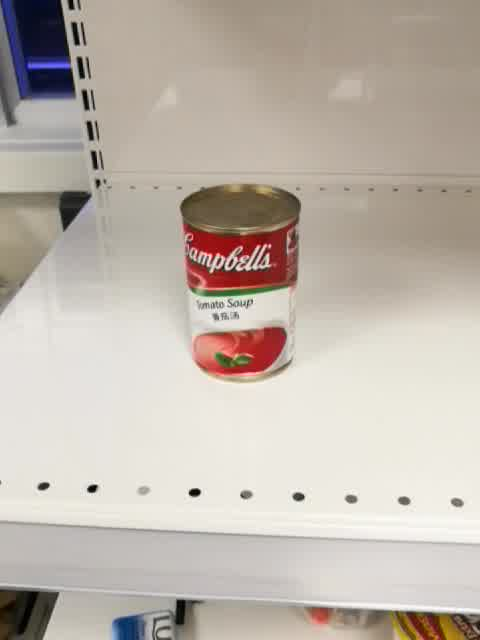tomatosoup: (178, 182, 302, 386)
